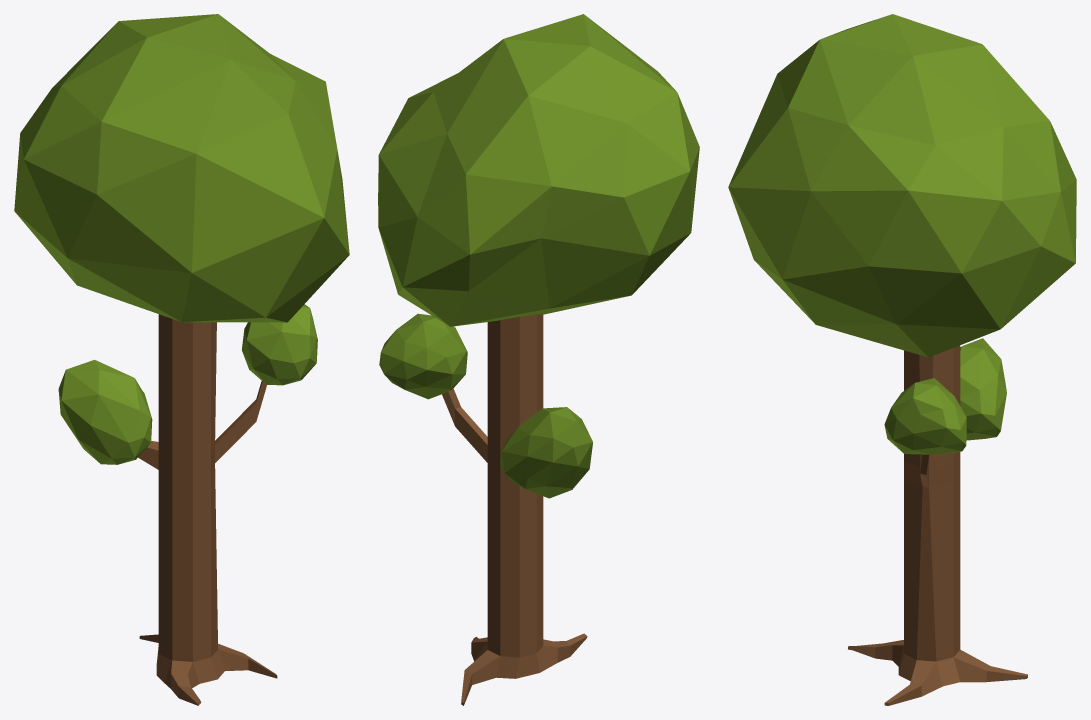
Rendered from Tree1.fbx.
The picture shows the model from 3 angles, left to right: view 1: azimuth 30°, elevation 25°; view 2: azimuth 150°, elevation 25°; view 3: azimuth 270°, elevation 25°; orthographic projection. The views are drawn at different scales.
Visible parts, largest first — view 1: Icosphere.002, Cylinder.002, Icosphere.004, Icosphere.003; view 2: Icosphere.002, Cylinder.002, Icosphere.004, Icosphere.003; view 3: Icosphere.002, Cylinder.002, Icosphere.003, Icosphere.004.
Part boxes in pixels (left/top/right/bottom): Icosphere.002: left=14, top=14, right=349, bottom=322; Cylinder.002: left=138, top=314, right=277, bottom=705; Icosphere.004: left=58, top=359, right=152, bottom=464; Icosphere.003: left=242, top=304, right=317, bottom=385; Icosphere.002: left=378, top=14, right=699, bottom=326; Cylinder.002: left=442, top=314, right=587, bottom=705; Icosphere.004: left=500, top=407, right=592, bottom=498; Icosphere.003: left=379, top=313, right=467, bottom=399; Icosphere.002: left=728, top=14, right=1076, bottom=357; Cylinder.002: left=848, top=345, right=1027, bottom=705; Icosphere.003: left=884, top=378, right=966, bottom=454; Icosphere.004: left=960, top=338, right=1006, bottom=440.
Size of the model in its own units: 381 by 794 by 396.
